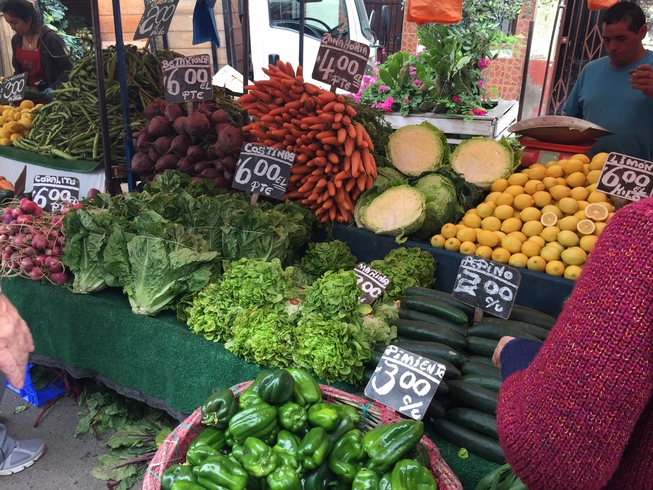precio: (369, 345, 448, 430), (453, 244, 522, 323), (235, 140, 297, 216), (307, 37, 373, 92), (33, 169, 85, 234), (600, 147, 653, 206), (157, 55, 216, 104), (349, 257, 392, 314), (131, 1, 179, 35), (1, 72, 30, 101)
